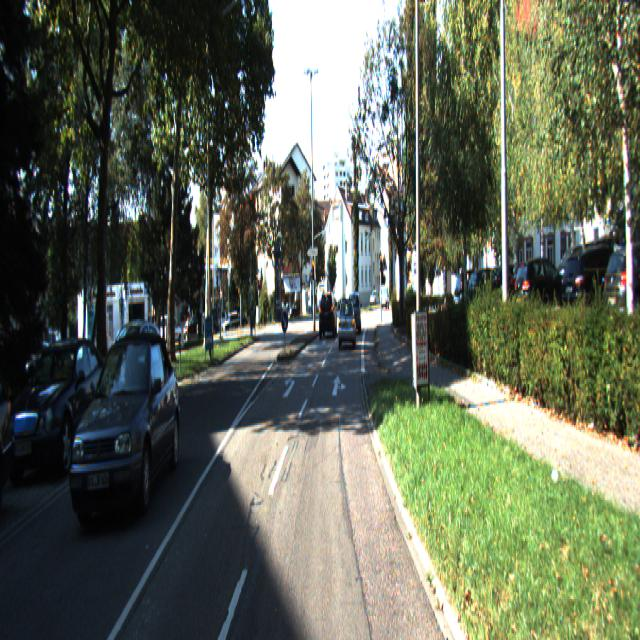Car: (70, 336, 180, 533), (6, 334, 113, 480), (98, 323, 167, 418), (319, 292, 337, 338), (339, 301, 355, 348), (348, 294, 362, 336)
